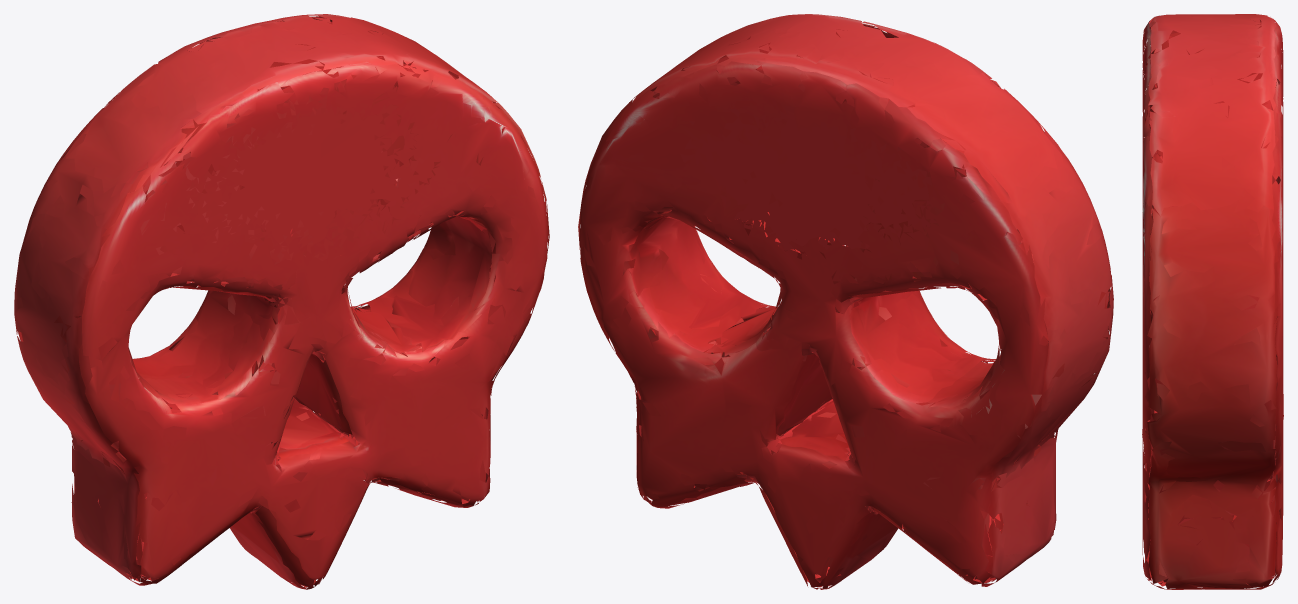
File: corruption.glb
3 renders of one model, left to right at view 1: azimuth 30°, elevation 25°; view 2: azimuth 150°, elevation 25°; view 3: azimuth 270°, elevation 25°, orthographic. The views are drawn at different scales.
Size of the model in its own units: 0.0476 by 0.05 by 0.0126.
Materials: 1 (1 with a texture image).
